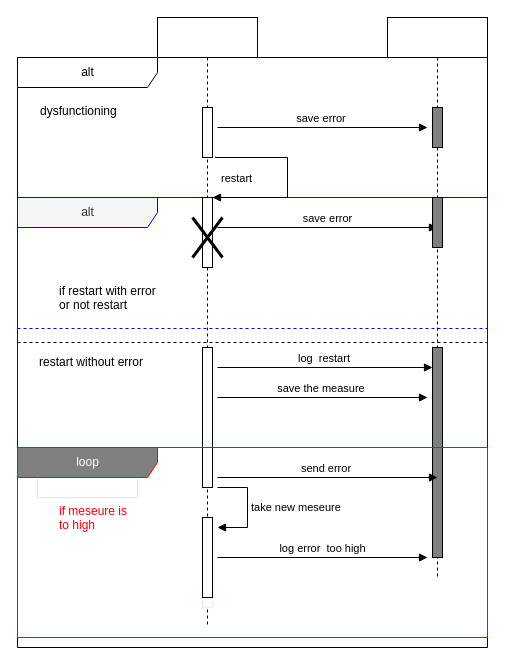
Image size: 505x665. Some labels were removed from this diagram. The box of each missing label's shape, as (x1, y1, x2, y2) in pixels:
bdd: (386, 16, 488, 578)
module iot: (156, 16, 258, 628)
